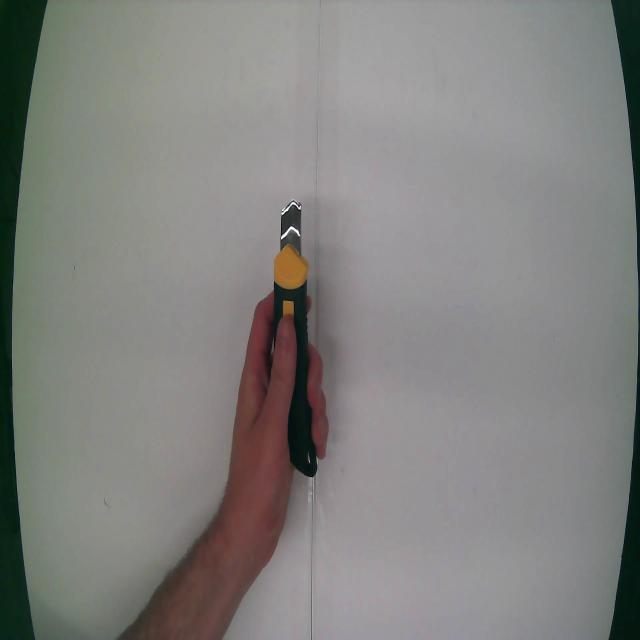estilete: (272, 201, 316, 477)
